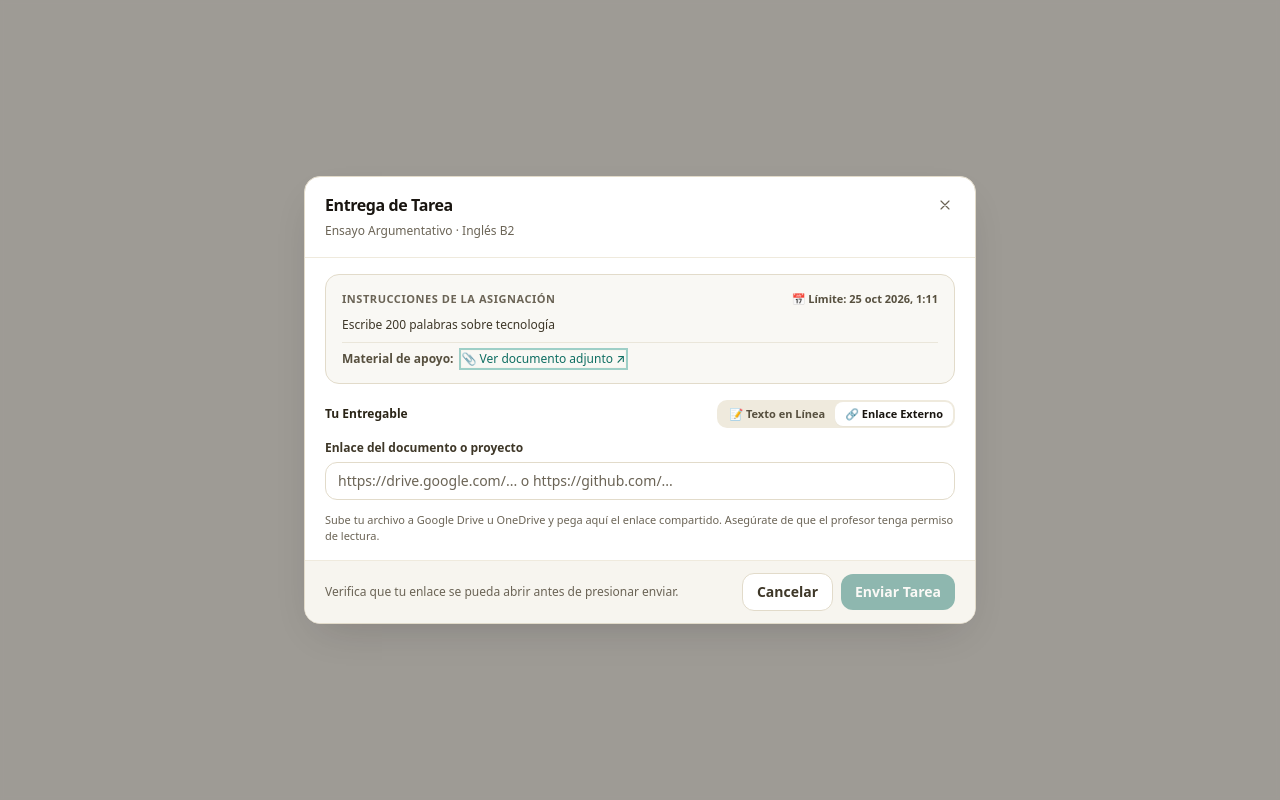
Scenario: StudentAssignmentModal › switches to text tab and displays live word and character count
Click the button "📝 Texto en Línea" at (777, 414), box [719,402,835,426]
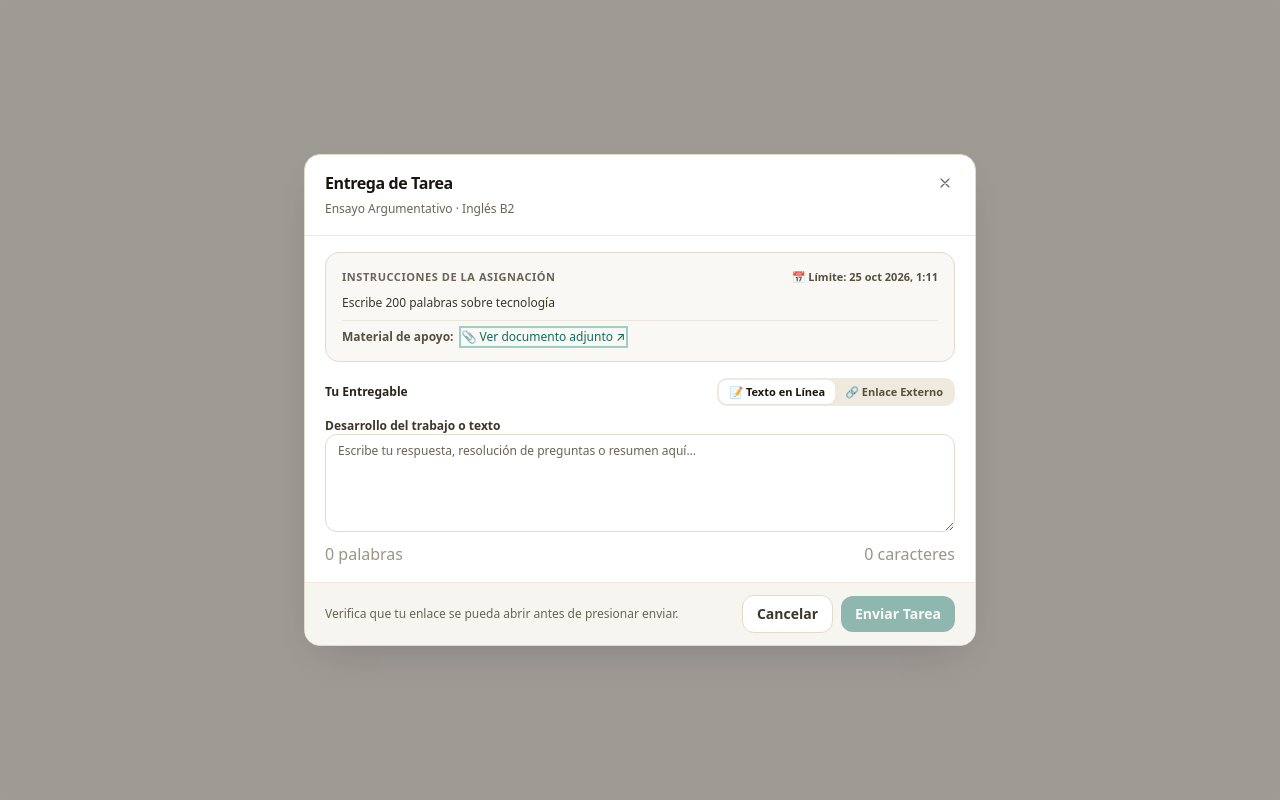
Replace the text in the text box with placeholder "Escribe tu respuesta" with "This is a great essay about artificial intelligence." at (640, 483), box [325,434,955,532]
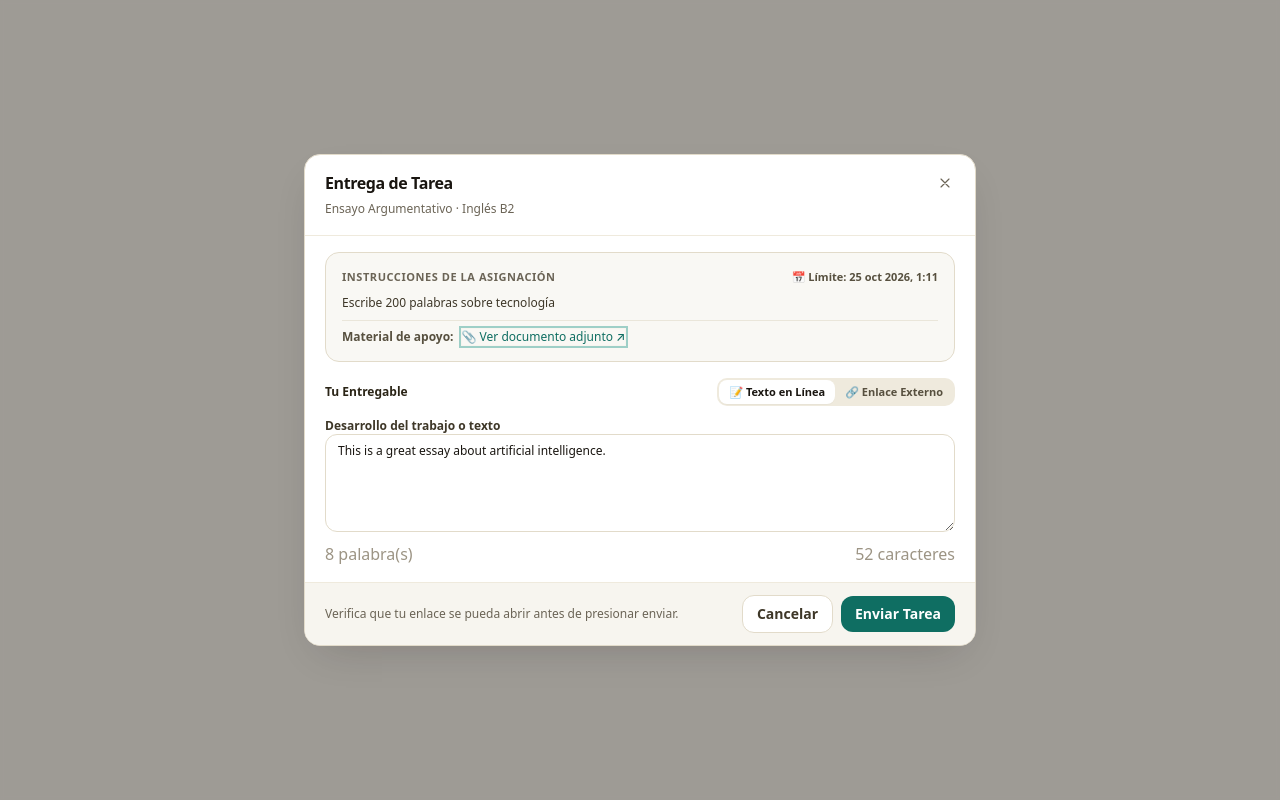
Expected: the text "8 palabra(s)" is shown, [325,542,413,566]
Expected: the text "52 caracteres" is shown, [855,542,955,566]
